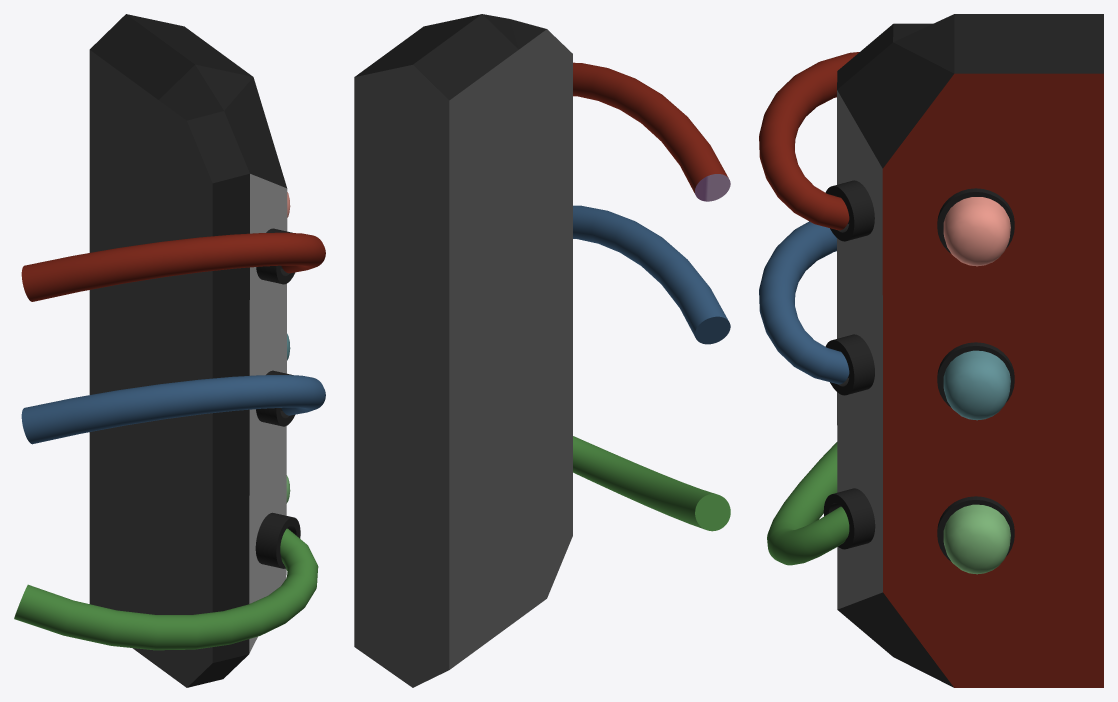
The model's file is encableado.fbx.
3 renders of one model, left to right at view 1: azimuth 30°, elevation 25°; view 2: azimuth 150°, elevation 25°; view 3: azimuth 270°, elevation 25°, orthographic. The views are drawn at different scales.
Parts seen in each view (by area): view 1: Cylinder, G, R, B; view 2: Cylinder, B, R, G; view 3: Cylinder, R, B, G, NurbsPath.004, NurbsPath.002, NurbsPath.
Part boxes in pixels (box(x1,y1,x2,y2)): Cylinder: box(89, 14, 300, 687); G: box(14, 528, 318, 650); R: box(21, 232, 325, 301); B: box(21, 375, 325, 444); Cylinder: box(354, 14, 572, 687); B: box(573, 205, 730, 344); R: box(573, 62, 730, 201); G: box(573, 436, 730, 531); Cylinder: box(823, 14, 1103, 687); R: box(759, 52, 859, 230); B: box(759, 221, 849, 384); G: box(767, 442, 849, 565); NurbsPath.004: box(943, 504, 1010, 574); NurbsPath.002: box(943, 350, 1010, 420); NurbsPath: box(943, 197, 1010, 266).
Size of the model in its own units: 115 by 218 by 102.
1 material, 1 textured.
